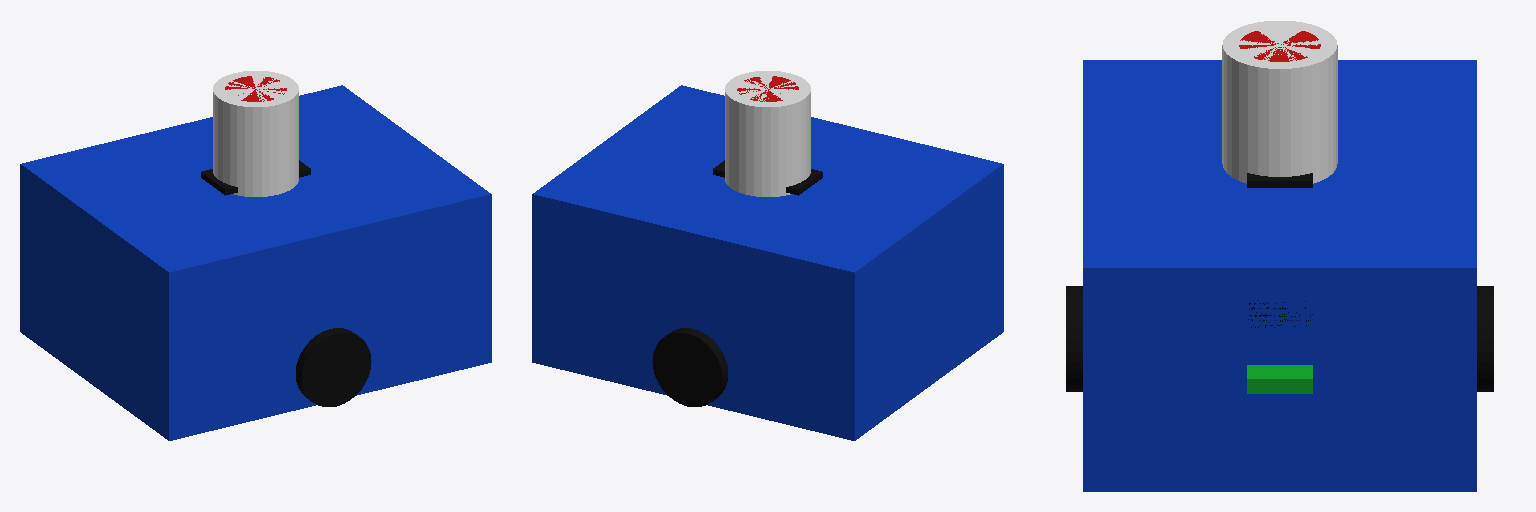
URDF robot description (advika):
<?xml version="1.0"?>
<!--
  Advika 3.0 URDF Model
  Compatible with Gazebo Harmonic + ROS2 Jazzy
  Includes: differential drive, LiDAR, ToF array, dual cameras, IMU
-->
<robot name="advika">

  <!-- ==================== MATERIALS ==================== -->
  <material name="black">
    <color rgba="0.1 0.1 0.1 1.0"/>
  </material>
  <material name="grey">
    <color rgba="0.5 0.5 0.5 1.0"/>
  </material>
  <material name="white">
    <color rgba="0.9 0.9 0.9 1.0"/>
  </material>
  <material name="red">
    <color rgba="0.8 0.1 0.1 1.0"/>
  </material>
  <material name="blue">
    <color rgba="0.1 0.3 0.8 1.0"/>
  </material>
  <material name="green">
    <color rgba="0.1 0.7 0.2 1.0"/>
  </material>
  <material name="transparent">
    <color rgba="0.5 0.5 0.5 0.3"/>
  </material>

  <!-- ==================== BASE FOOTPRINT ==================== -->
  <link name="base_footprint"/>

  <joint name="base_footprint_joint" type="fixed">
    <parent link="base_footprint"/>
    <child link="base_link"/>
    <origin xyz="0 0 0.0" rpy="0 0 0"/>
  </joint>

  <!-- ==================== BASE LINK ==================== -->
  <link name="base_link">
    <visual>
      <origin xyz="0 0 0.075" rpy="0 0 0"/>
      <geometry>
        <box size="0.30 0.24 0.15"/>
      </geometry>
      <material name="blue"/>
    </visual>
    <collision>
      <origin xyz="0 0 0.075" rpy="0 0 0"/>
      <geometry>
        <box size="0.30 0.24 0.15"/>
      </geometry>
    </collision>
    <inertial>
      <origin xyz="0 0 0.075" rpy="0 0 0"/>
      <mass value="2.0"/>
      <inertia ixx="0.0125" ixy="0" ixz="0"
               iyy="0.0165" iyz="0"
               izz="0.0245"/>
    </inertial>
  </link>

  <!-- ==================== LEFT WHEEL ==================== -->
  <link name="left_wheel">
    <visual>
      <origin xyz="0 0 0" rpy="0 0 0"/>
      <geometry>
        <cylinder radius="0.0325" length="0.03"/>
      </geometry>
      <material name="black"/>
    </visual>
    <collision>
      <origin xyz="0 0 0" rpy="0 0 0"/>
      <geometry>
        <cylinder radius="0.0325" length="0.03"/>
      </geometry>
    </collision>
    <inertial>
      <origin xyz="0 0 0" rpy="0 0 0"/>
      <mass value="0.15"/>
      <inertia ixx="0.0001" ixy="0" ixz="0"
               iyy="0.0001" iyz="0"
               izz="0.00008"/>
    </inertial>
  </link>

  <joint name="left_wheel_joint" type="continuous">
    <parent link="base_link"/>
    <child link="left_wheel"/>
    <origin xyz="0 0.115 0.0325" rpy="-1.5708 0 0"/>
    <axis xyz="0 0 1"/>
  </joint>

  <!-- ==================== RIGHT WHEEL ==================== -->
  <link name="right_wheel">
    <visual>
      <origin xyz="0 0 0" rpy="0 0 0"/>
      <geometry>
        <cylinder radius="0.0325" length="0.03"/>
      </geometry>
      <material name="black"/>
    </visual>
    <collision>
      <origin xyz="0 0 0" rpy="0 0 0"/>
      <geometry>
        <cylinder radius="0.0325" length="0.03"/>
      </geometry>
    </collision>
    <inertial>
      <origin xyz="0 0 0" rpy="0 0 0"/>
      <mass value="0.15"/>
      <inertia ixx="0.0001" ixy="0" ixz="0"
               iyy="0.0001" iyz="0"
               izz="0.00008"/>
    </inertial>
  </link>

  <joint name="right_wheel_joint" type="continuous">
    <parent link="base_link"/>
    <child link="right_wheel"/>
    <origin xyz="0 -0.115 0.0325" rpy="-1.5708 0 0"/>
    <axis xyz="0 0 1"/>
  </joint>

  <!-- ==================== CASTER WHEEL (FRONT) ==================== -->
  <link name="caster_wheel">
    <visual>
      <origin xyz="0 0 0" rpy="0 0 0"/>
      <geometry>
        <sphere radius="0.015"/>
      </geometry>
      <material name="grey"/>
    </visual>
    <collision>
      <origin xyz="0 0 0" rpy="0 0 0"/>
      <geometry>
        <sphere radius="0.015"/>
      </geometry>
    </collision>
    <inertial>
      <origin xyz="0 0 0" rpy="0 0 0"/>
      <mass value="0.05"/>
      <inertia ixx="0.00001" ixy="0" ixz="0"
               iyy="0.00001" iyz="0"
               izz="0.00001"/>
    </inertial>
  </link>

  <joint name="caster_wheel_joint" type="fixed">
    <parent link="base_link"/>
    <child link="caster_wheel"/>
    <origin xyz="0.12 0 0.015" rpy="0 0 0"/>
  </joint>

  <!-- ==================== CASTER WHEEL (REAR) ==================== -->
  <link name="caster_wheel_rear">
    <visual>
      <origin xyz="0 0 0" rpy="0 0 0"/>
      <geometry>
        <sphere radius="0.015"/>
      </geometry>
      <material name="grey"/>
    </visual>
    <collision>
      <origin xyz="0 0 0" rpy="0 0 0"/>
      <geometry>
        <sphere radius="0.015"/>
      </geometry>
    </collision>
    <inertial>
      <origin xyz="0 0 0" rpy="0 0 0"/>
      <mass value="0.05"/>
      <inertia ixx="0.00001" ixy="0" ixz="0"
               iyy="0.00001" iyz="0"
               izz="0.00001"/>
    </inertial>
  </link>

  <joint name="caster_wheel_rear_joint" type="fixed">
    <parent link="base_link"/>
    <child link="caster_wheel_rear"/>
    <origin xyz="-0.12 0 0.015" rpy="0 0 0"/>
  </joint>

  <!-- ==================== LIDAR TOWER ==================== -->
  <link name="lidar_tower">
    <visual>
      <origin xyz="0 0 0.04" rpy="0 0 0"/>
      <geometry>
        <cylinder radius="0.035" length="0.08"/>
      </geometry>
      <material name="white"/>
    </visual>
    <collision>
      <origin xyz="0 0 0.04" rpy="0 0 0"/>
      <geometry>
        <cylinder radius="0.035" length="0.08"/>
      </geometry>
    </collision>
    <inertial>
      <origin xyz="0 0 0.04" rpy="0 0 0"/>
      <mass value="0.1"/>
      <inertia ixx="0.0002" ixy="0" ixz="0"
               iyy="0.0002" iyz="0"
               izz="0.0001"/>
    </inertial>
  </link>

  <joint name="lidar_tower_joint" type="fixed">
    <parent link="base_link"/>
    <child link="lidar_tower"/>
    <origin xyz="0 0 0.15" rpy="0 0 0"/>
  </joint>

  <!-- ==================== LIDAR SENSOR ==================== -->
  <link name="lidar_link">
    <visual>
      <origin xyz="0 0 0" rpy="0 0 0"/>
      <geometry>
        <cylinder radius="0.025" length="0.03"/>
      </geometry>
      <material name="red"/>
    </visual>
    <collision>
      <origin xyz="0 0 0" rpy="0 0 0"/>
      <geometry>
        <cylinder radius="0.025" length="0.03"/>
      </geometry>
    </collision>
    <inertial>
      <origin xyz="0 0 0" rpy="0 0 0"/>
      <mass value="0.05"/>
      <inertia ixx="0.00001" ixy="0" ixz="0"
               iyy="0.00001" iyz="0"
               izz="0.00001"/>
    </inertial>
  </link>

  <joint name="lidar_joint" type="fixed">
    <parent link="lidar_tower"/>
    <child link="lidar_link"/>
    <origin xyz="0 0 0.065" rpy="0 0 0"/>
  </joint>

  <!-- ==================== HORIZON CAMERA ==================== -->
  <link name="horizon_camera_link">
    <visual>
      <origin xyz="0 0 0" rpy="0 0 0"/>
      <geometry>
        <box size="0.02 0.04 0.02"/>
      </geometry>
      <material name="black"/>
    </visual>
    <collision>
      <origin xyz="0 0 0" rpy="0 0 0"/>
      <geometry>
        <box size="0.02 0.04 0.02"/>
      </geometry>
    </collision>
    <inertial>
      <origin xyz="0 0 0" rpy="0 0 0"/>
      <mass value="0.02"/>
      <inertia ixx="0.000003" ixy="0" ixz="0"
               iyy="0.000003" iyz="0"
               izz="0.000003"/>
    </inertial>
  </link>

  <joint name="horizon_camera_joint" type="fixed">
    <parent link="base_link"/>
    <child link="horizon_camera_link"/>
    <origin xyz="0.14 0 0.12" rpy="0 0 0"/>
  </joint>

  <!-- ==================== FLOOR CAMERA ==================== -->
  <link name="floor_camera_link">
    <visual>
      <origin xyz="0 0 0" rpy="0 0 0"/>
      <geometry>
        <box size="0.02 0.04 0.02"/>
      </geometry>
      <material name="black"/>
    </visual>
    <collision>
      <origin xyz="0 0 0" rpy="0 0 0"/>
      <geometry>
        <box size="0.02 0.04 0.02"/>
      </geometry>
    </collision>
    <inertial>
      <origin xyz="0 0 0" rpy="0 0 0"/>
      <mass value="0.02"/>
      <inertia ixx="0.000003" ixy="0" ixz="0"
               iyy="0.000003" iyz="0"
               izz="0.000003"/>
    </inertial>
  </link>

  <joint name="floor_camera_joint" type="fixed">
    <parent link="base_link"/>
    <child link="floor_camera_link"/>
    <origin xyz="0.12 0 0.02" rpy="0 0.785 0"/>
  </joint>

  <!-- ==================== TOF ARRAY ==================== -->
  <link name="tof_array_link">
    <visual>
      <origin xyz="0 0 0" rpy="0 0 0"/>
      <geometry>
        <box size="0.04 0.04 0.01"/>
      </geometry>
      <material name="green"/>
    </visual>
    <collision>
      <origin xyz="0 0 0" rpy="0 0 0"/>
      <geometry>
        <box size="0.04 0.04 0.01"/>
      </geometry>
    </collision>
    <inertial>
      <origin xyz="0 0 0" rpy="0 0 0"/>
      <mass value="0.01"/>
      <inertia ixx="0.000001" ixy="0" ixz="0"
               iyy="0.000001" iyz="0"
               izz="0.000001"/>
    </inertial>
  </link>

  <joint name="tof_array_joint" type="fixed">
    <parent link="base_link"/>
    <child link="tof_array_link"/>
    <origin xyz="0.15 0 0.08" rpy="0 0 0"/>
  </joint>

  <!-- ==================== IMU ==================== -->
  <link name="imu_link">
    <visual>
      <origin xyz="0 0 0" rpy="0 0 0"/>
      <geometry>
        <box size="0.02 0.02 0.005"/>
      </geometry>
      <material name="transparent"/>
    </visual>
    <collision>
      <origin xyz="0 0 0" rpy="0 0 0"/>
      <geometry>
        <box size="0.02 0.02 0.005"/>
      </geometry>
    </collision>
    <inertial>
      <origin xyz="0 0 0" rpy="0 0 0"/>
      <mass value="0.005"/>
      <inertia ixx="0.0000001" ixy="0" ixz="0"
               iyy="0.0000001" iyz="0"
               izz="0.0000001"/>
    </inertial>
  </link>

  <joint name="imu_joint" type="fixed">
    <parent link="base_link"/>
    <child link="imu_link"/>
    <origin xyz="0 0 0.08" rpy="0 0 0"/>
  </joint>

  <!-- ==================== DISPLAY SCREEN ==================== -->
  <link name="display_link">
    <visual>
      <origin xyz="0 0 0" rpy="0 0 0"/>
      <geometry>
        <box size="0.08 0.04 0.005"/>
      </geometry>
      <material name="black"/>
    </visual>
    <collision>
      <origin xyz="0 0 0" rpy="0 0 0"/>
      <geometry>
        <box size="0.08 0.04 0.005"/>
      </geometry>
    </collision>
    <inertial>
      <origin xyz="0 0 0" rpy="0 0 0"/>
      <mass value="0.01"/>
      <inertia ixx="0.000001" ixy="0" ixz="0"
               iyy="0.000001" iyz="0"
               izz="0.000001"/>
    </inertial>
  </link>

  <joint name="display_joint" type="fixed">
    <parent link="base_link"/>
    <child link="display_link"/>
    <origin xyz="0 0 0.155" rpy="0 0 0"/>
  </joint>

  <!-- ==================== GAZEBO PLUGINS ==================== -->

  <!-- ==================== GAZEBO HARMONIC PLUGINS ==================== -->

  <!-- Differential Drive System Plugin -->
  <gazebo>
    <plugin filename="gz-sim-diff-drive-system" name="gz::sim::systems::DiffDrive">
      <left_joint>left_wheel_joint</left_joint>
      <right_joint>right_wheel_joint</right_joint>
      <wheel_separation>0.23</wheel_separation>
      <wheel_radius>0.0325</wheel_radius>
      <odom_publish_frequency>50</odom_publish_frequency>
      <topic>/advika/cmd_vel</topic>
      <odom_topic>/advika/odom</odom_topic>
      <tf_topic>/tf</tf_topic>
      <frame_id>odom</frame_id>
      <child_frame_id>base_link</child_frame_id>
    </plugin>
  </gazebo>

  <!-- Sensors System Plugin (enables LiDAR, Camera, ToF) -->
  <gazebo>
    <plugin filename="gz-sim-sensors-system" name="gz::sim::systems::Sensors">
      <render_engine>ogre2</render_engine>
    </plugin>
  </gazebo>

  <!-- IMU System Plugin -->
  <gazebo reference="imu_link">
    <sensor name="imu_sensor" type="imu">
      <always_on>true</always_on>
      <update_rate>100</update_rate>
      <visualize>false</visualize>
      <topic>/advika/imu/data</topic>
      <plugin filename="gz-sim-imu-system" name="gz::sim::systems::Imu">
      </plugin>
    </sensor>
  </gazebo>

  <!-- LiDAR Sensor (Gazebo Harmonic gpu_lidar) -->
  <gazebo reference="lidar_link">
    <sensor name="lidar_sensor" type="gpu_lidar">
      <pose>0 0 0 0 0 0</pose>
      <topic>/advika/scan</topic>
      <visualize>true</visualize>
      <update_rate>10</update_rate>
      <lidar>
        <scan>
          <horizontal>
            <samples>360</samples>
            <resolution>1</resolution>
            <min_angle>-3.14159</min_angle>
            <max_angle>3.14159</max_angle>
          </horizontal>
        </scan>
        <range>
          <min>0.12</min>
          <max>12.0</max>
          <resolution>0.01</resolution>
        </range>
        <noise>
          <type>gaussian</type>
          <mean>0.0</mean>
          <stddev>0.01</stddev>
        </noise>
      </lidar>
    </sensor>
  </gazebo>

  <!-- Horizon Camera Sensor -->
  <gazebo reference="horizon_camera_link">
    <sensor name="horizon_camera" type="camera">
      <pose>0 0 0 0 0 0</pose>
      <topic>/advika/horizon_camera/image_raw</topic>
      <camera>
        <horizontal_fov>1.309</horizontal_fov>
        <image>
          <width>640</width>
          <height>480</height>
          <format>R8G8B8</format>
        </image>
        <clip>
          <near>0.1</near>
          <far>100</far>
        </clip>
      </camera>
      <always_on>true</always_on>
      <update_rate>30</update_rate>
      <visualize>true</visualize>
    </sensor>
  </gazebo>

  <!-- Floor Camera Sensor -->
  <gazebo reference="floor_camera_link">
    <sensor name="floor_camera" type="camera">
      <pose>0 0 0 0 0 0</pose>
      <topic>/advika/floor_camera/image_raw</topic>
      <camera>
        <horizontal_fov>2.094</horizontal_fov>
        <image>
          <width>640</width>
          <height>480</height>
          <format>R8G8B8</format>
        </image>
        <clip>
          <near>0.05</near>
          <far>10</far>
        </clip>
      </camera>
      <always_on>true</always_on>
      <update_rate>30</update_rate>
      <visualize>true</visualize>
    </sensor>
  </gazebo>

  <!-- Base Link Physics Properties -->
  <gazebo reference="base_link">
    <mu1>0.5</mu1>
    <mu2>0.5</mu2>
    <self_collide>false</self_collide>
    <gravity>true</gravity>
  </gazebo>

  <!-- Wheel Friction -->
  <gazebo reference="left_wheel">
    <mu1>1.0</mu1>
    <mu2>1.0</mu2>
    <self_collide>false</self_collide>
  </gazebo>

  <gazebo reference="right_wheel">
    <mu1>1.0</mu1>
    <mu2>1.0</mu2>
    <self_collide>false</self_collide>
  </gazebo>

</robot>

--- Facts derived from the render (not from the file) ---
3 views of the same robot in one strip: view 1: azimuth 30°, elevation 25°; view 2: azimuth 150°, elevation 25°; view 3: azimuth 270°, elevation 25° (orthographic).
Robot: advika — 13 links, 12 joints (2 continuous, 10 fixed); root link base_footprint; default pose: all joints at 0.
Links seen in each view (by area): view 1: base_link, lidar_tower, right_wheel, lidar_link, display_link; view 2: base_link, lidar_tower, left_wheel, lidar_link, display_link; view 3: base_link, lidar_tower, tof_array_link, left_wheel, right_wheel, lidar_link, display_link.
Link boxes in pixels (x1=…): base_link: x1=20, y1=85, x2=491, y2=440; lidar_tower: x1=213, y1=71, x2=298, y2=196; right_wheel: x1=296, y1=328, x2=371, y2=406; lidar_link: x1=225, y1=76, x2=286, y2=101; display_link: x1=201, y1=160, x2=310, y2=195; base_link: x1=532, y1=85, x2=1003, y2=440; lidar_tower: x1=725, y1=71, x2=810, y2=196; left_wheel: x1=652, y1=328, x2=727, y2=406; lidar_link: x1=737, y1=76, x2=798, y2=101; display_link: x1=713, y1=160, x2=822, y2=195; base_link: x1=1083, y1=60, x2=1476, y2=491; lidar_tower: x1=1222, y1=21, x2=1337, y2=183; tof_array_link: x1=1247, y1=365, x2=1312, y2=393; left_wheel: x1=1477, y1=286, x2=1493, y2=391; right_wheel: x1=1066, y1=286, x2=1082, y2=391; lidar_link: x1=1239, y1=31, x2=1320, y2=61; display_link: x1=1247, y1=173, x2=1312, y2=187.
Bounding box of the posed robot: 0.32 × 0.26 × 0.23 m (x, y, z).
Geometry: primitives only (box / cylinder / sphere), no mesh files.
